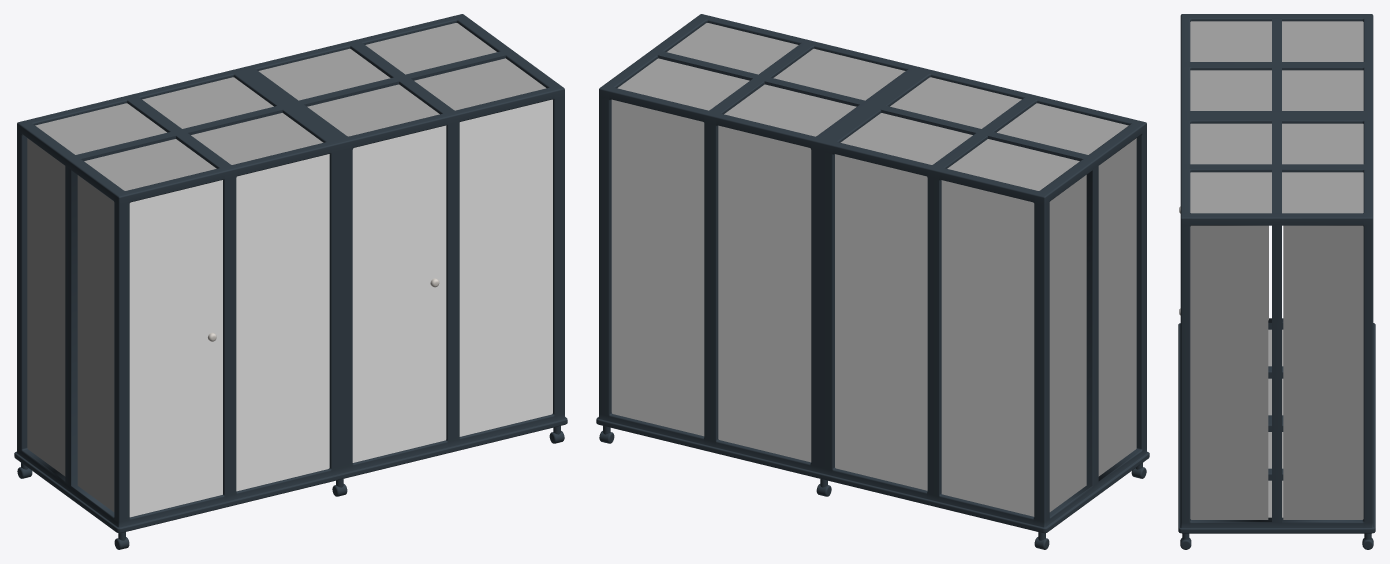
Rendered from SM_GlassBirdCage.fbx.
3 renders of one model, left to right at view 1: azimuth 30°, elevation 25°; view 2: azimuth 150°, elevation 25°; view 3: azimuth 270°, elevation 25°, orthographic. The views are drawn at different scales.
Parts seen in each view (by area): view 1: SM_Glass, SM_Cage, polySurface172, polySurface158, polySurface168, polySurface165, SM_Wheel; view 2: SM_Glass, SM_Cage, polySurface158, polySurface172, polySurface165, polySurface168, SM_Wheel; view 3: SM_Cage, polySurface167, polySurface166, polySurface158, polySurface172, SM_Wheel.
Part boxes in pixels (box(x1,y1,x2,y2)): SM_Glass: box(129, 99, 552, 517); SM_Cage: box(14, 14, 567, 533); polySurface172: box(84, 58, 546, 190); polySurface158: box(35, 23, 496, 154); polySurface168: box(27, 138, 65, 476); polySurface165: box(77, 175, 114, 511); SM_Wheel: box(17, 426, 564, 549); SM_Glass: box(611, 99, 1034, 516); SM_Cage: box(596, 14, 1149, 533); polySurface158: box(617, 58, 1079, 190); polySurface172: box(667, 23, 1128, 154); polySurface165: box(1098, 138, 1136, 476); polySurface168: box(1049, 175, 1086, 511); SM_Wheel: box(599, 426, 1146, 549); SM_Cage: box(1178, 14, 1375, 533); polySurface167: box(1283, 225, 1363, 519); polySurface166: box(1190, 225, 1268, 519); polySurface158: box(1282, 21, 1363, 213); polySurface172: box(1190, 21, 1271, 213); SM_Wheel: box(1180, 533, 1373, 549).
Bounding box in the file's own units: 303 × 228 × 122.
3 materials, 1 textured.
